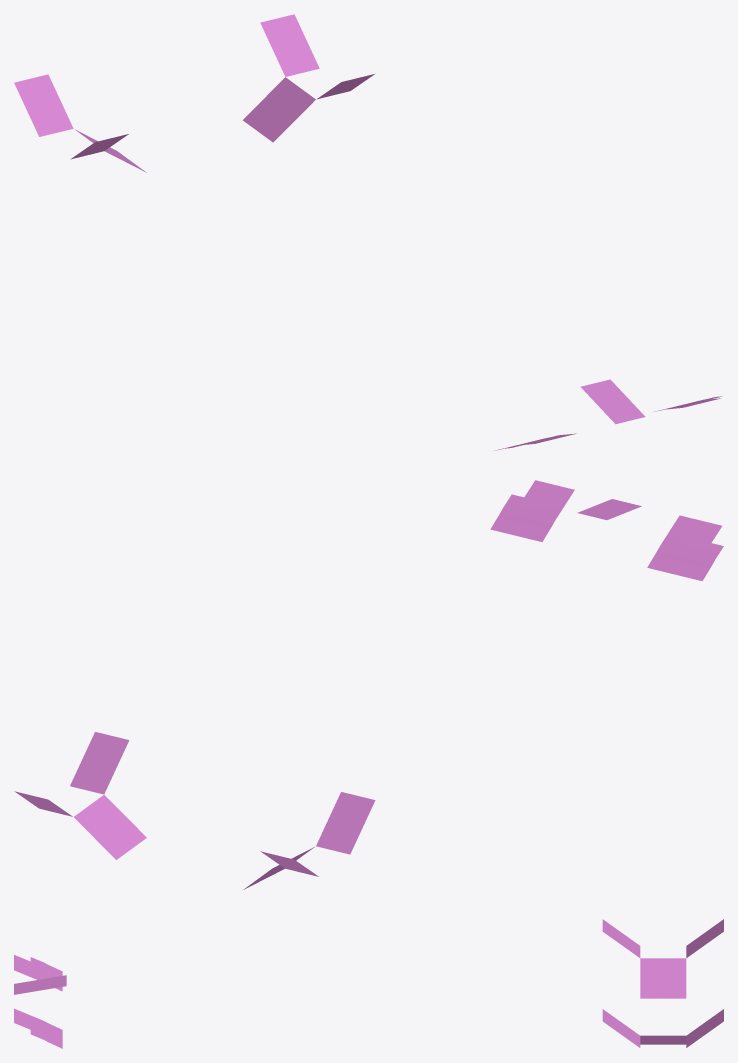
File: cluster_16.fbx
The picture shows the model from 3 angles, top to bottom: view 1: azimuth 30°, elevation 25°; view 2: azimuth 150°, elevation 25°; view 3: azimuth 270°, elevation 25°; orthographic projection. The views are drawn at different scales.
Visible parts, largest first — view 1: cluster_16; view 2: cluster_16; view 3: cluster_16.
Boxes of the visible parts, left/top/right/bottom form: cluster_16: left=14, top=14, right=722, bottom=450; cluster_16: left=14, top=480, right=723, bottom=889; cluster_16: left=14, top=919, right=723, bottom=1048.
Bounding box in the file's own units: 115077 × 26926 × 337275.
